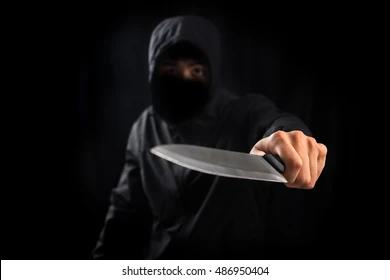Knife: (95, 15, 327, 258), (151, 143, 290, 183), (250, 130, 327, 191)
